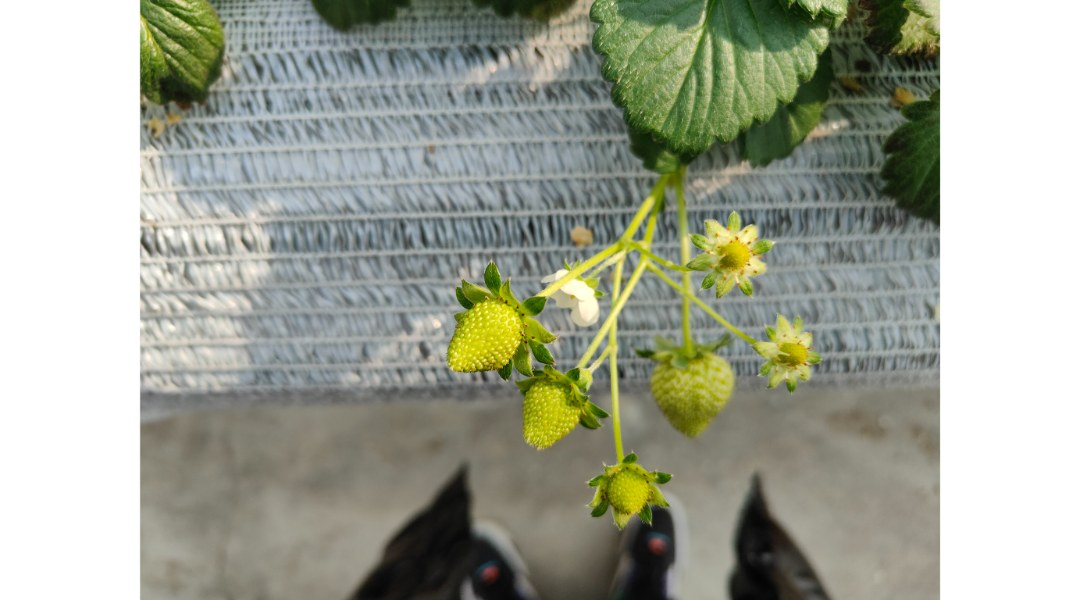berry: (436, 279, 548, 381), (587, 444, 679, 540), (649, 348, 735, 444), (754, 307, 831, 411), (524, 354, 589, 470), (683, 209, 767, 290)
flower: (540, 265, 599, 330)
strain: (628, 241, 769, 363), (578, 261, 636, 365), (671, 184, 698, 358), (601, 363, 632, 460)
